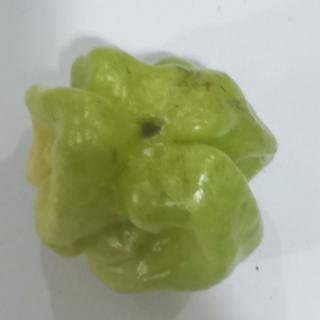Grade-B: (18, 35, 290, 296)
